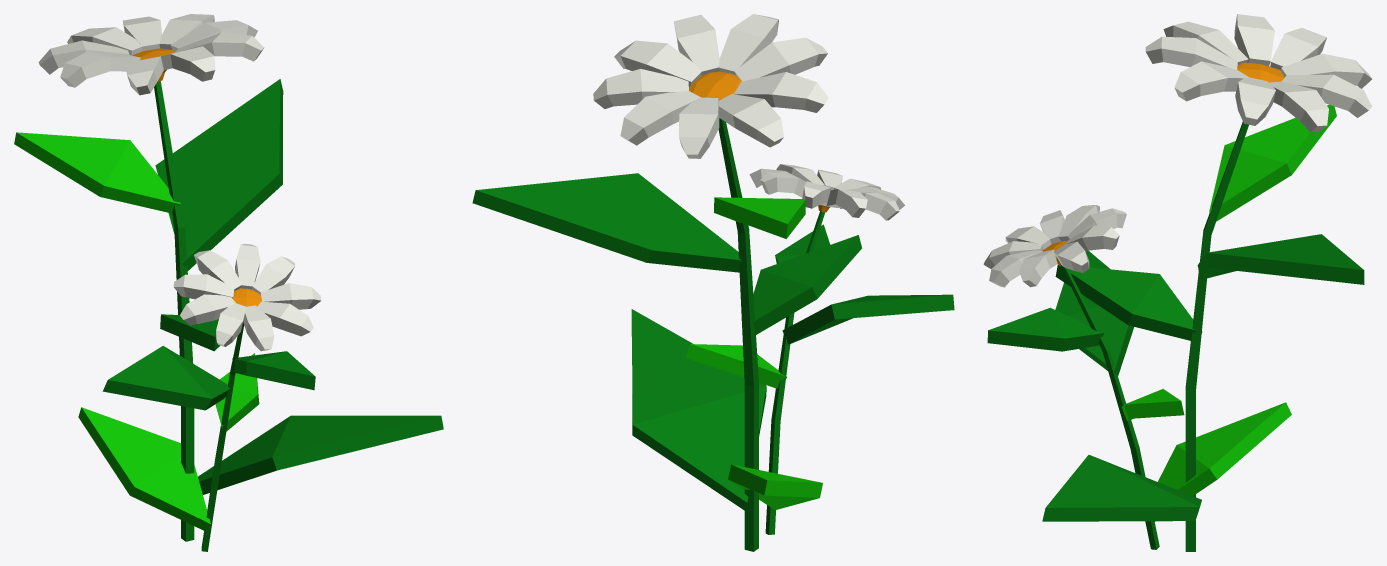
The model's file is Flower05_V2.fbx.
3 renders of one model, left to right at view 1: azimuth 30°, elevation 25°; view 2: azimuth 150°, elevation 25°; view 3: azimuth 270°, elevation 25°, orthographic. The views are drawn at different scales.
Parts seen in each view (by area): view 1: Cube.001; view 2: Cube.001; view 3: Cube.001.
Boxes of the visible parts, x1,y1,x2,y2 form: Cube.001: (14,14,443,551); Cube.001: (472,14,954,551); Cube.001: (983,14,1372,551).
Bounding box in the file's own units: 25.49 × 37.03 × 25.71.
